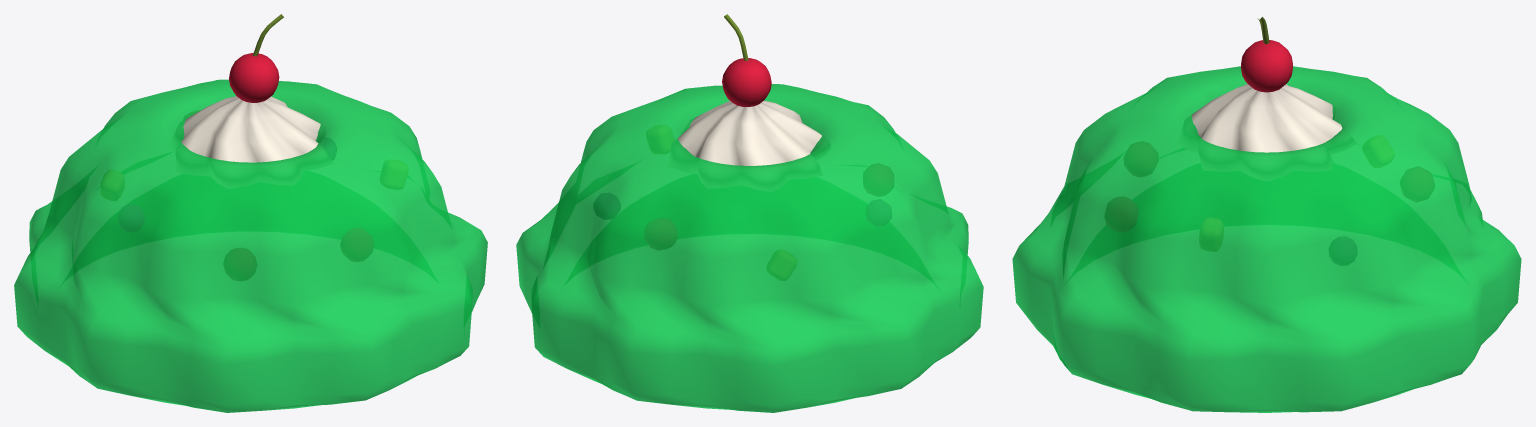
File: costume_jelly_helmet__287.glb
3 views of the same model, side by side, from view 1: azimuth 30°, elevation 25°; view 2: azimuth 150°, elevation 25°; view 3: azimuth 270°, elevation 25° (orthographic). The views are drawn at different scales.
Visible parts, largest first — view 1: jelly, group, merged_toon_ffffff; view 2: jelly, group, merged_toon_ffffff; view 3: jelly, group, merged_toon_ffffff.
Part boxes in pixels (<box>): jelly: <box>14,79,487,412</box>; group: <box>181,96,320,162</box>; merged_toon_ffffff: <box>229,14,283,102</box>; jelly: <box>516,84,983,412</box>; group: <box>678,100,821,165</box>; merged_toon_ffffff: <box>722,14,771,106</box>; jelly: <box>1012,66,1521,412</box>; group: <box>1191,84,1342,152</box>; merged_toon_ffffff: <box>1241,17,1292,92</box>.
Bounding box in the file's own units: 0.6364 × 0.4621 × 0.6692.
